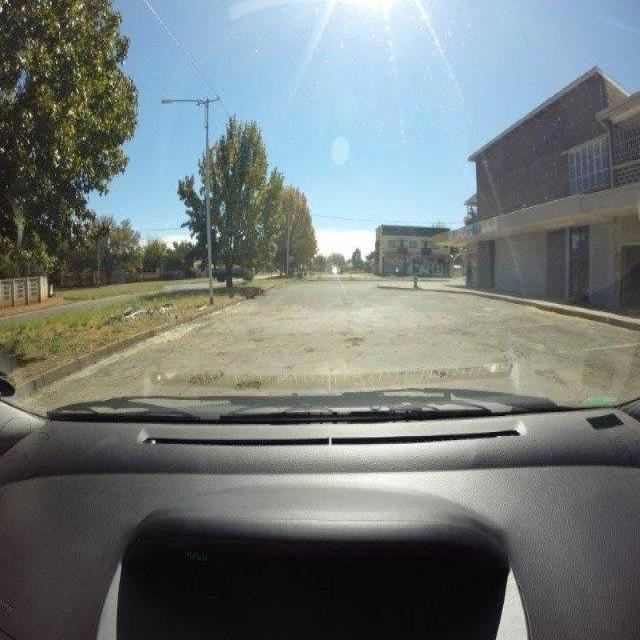jalan retak: (120, 361, 167, 386), (245, 332, 303, 349)
lubang: (182, 364, 226, 390), (224, 375, 269, 392), (342, 335, 363, 344), (304, 342, 316, 357)
